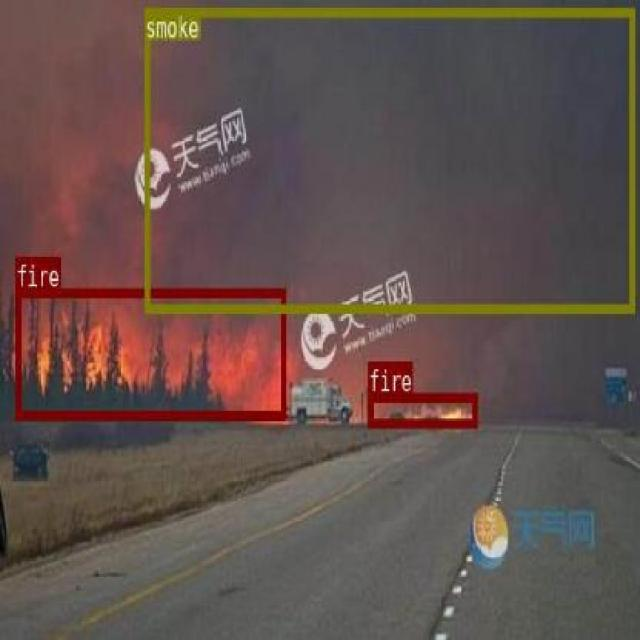fire: (14, 287, 286, 418), (367, 392, 476, 426)
smoke: (144, 8, 633, 312)
